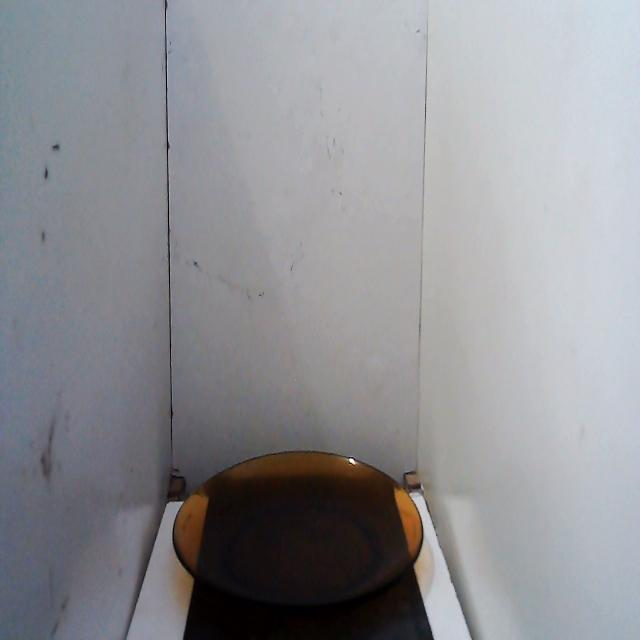vidro: (167, 425, 431, 627)
